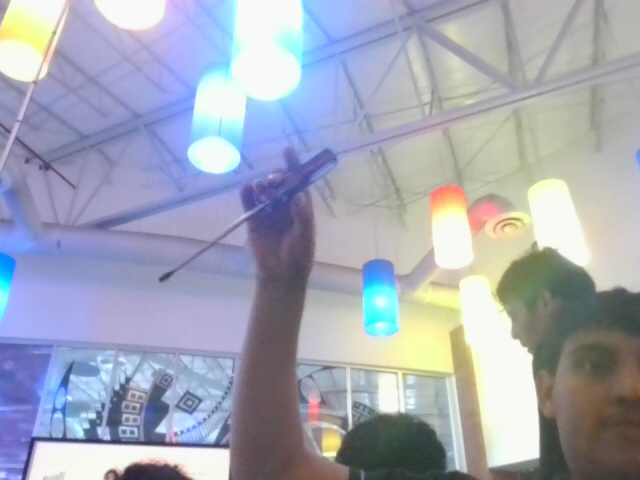destornillador: (157, 150, 337, 282)
